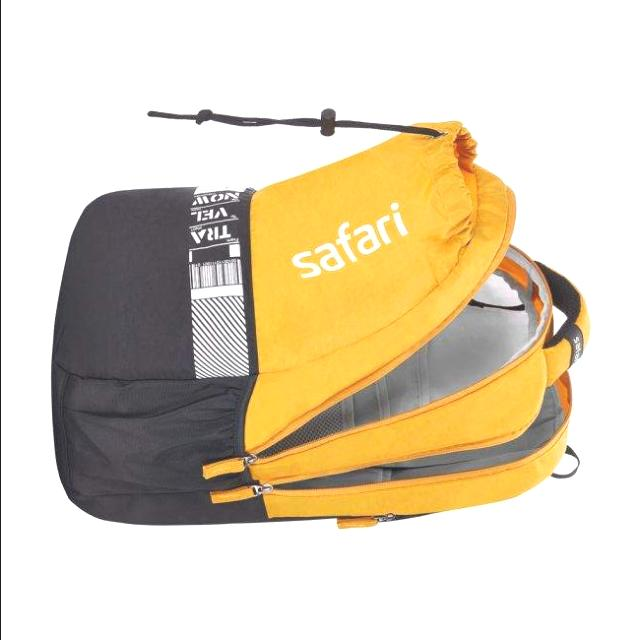backpack: (52, 110, 592, 530)
